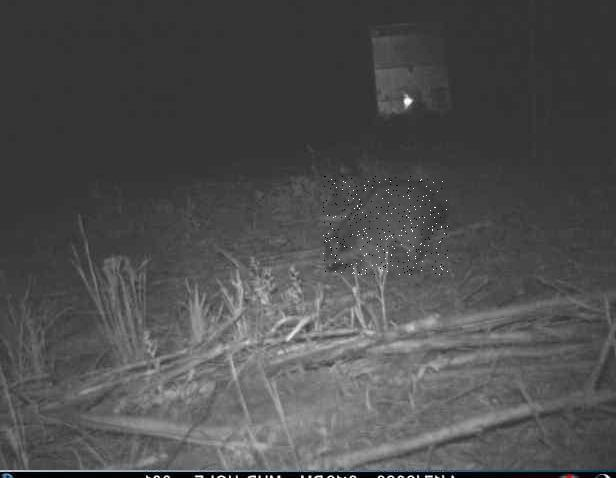Raccoon: (322, 176, 448, 275)
